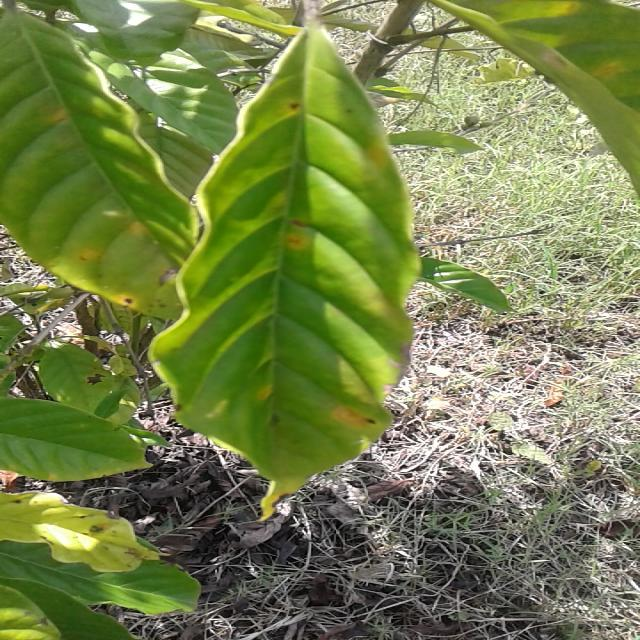Enfermedad-Roya: (146, 24, 420, 517)
